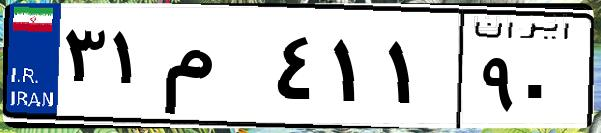0: (525, 38, 570, 115)
1: (385, 28, 445, 110), (330, 28, 385, 110), (110, 28, 158, 98)
3: (57, 26, 110, 100)
4: (270, 28, 330, 110)
9: (475, 38, 525, 113)
م: (158, 20, 270, 120)
